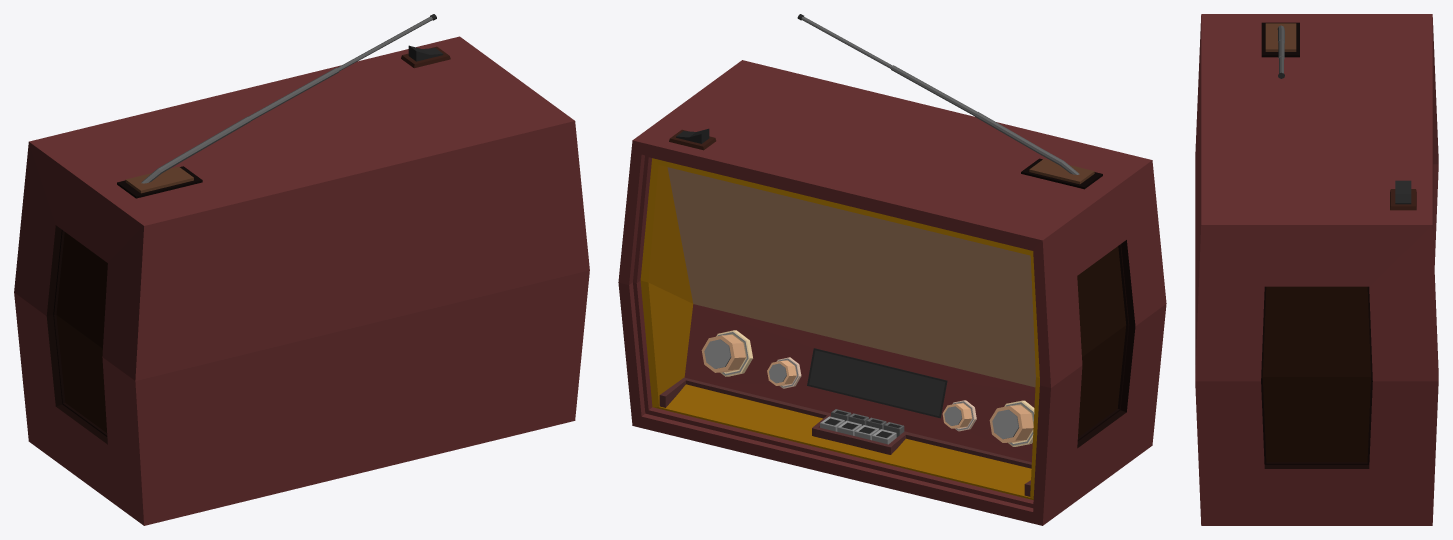
Rendered from radio.glb.
3 renders of one model, left to right at view 1: azimuth 30°, elevation 25°; view 2: azimuth 150°, elevation 25°; view 3: azimuth 270°, elevation 25°, orthographic. The views are drawn at different scales.
Visible parts, largest first — view 1: Cube_0, Plane_4, Cube.010_3; view 2: Cube_0, Cube.001_1, Plane_4, Cube.006_2, Cube.010_3; view 3: Cube_0, Plane_4, Cube.010_3.
Boxes of the visible parts, <box> form: Cube_0: <box>14,36,589,525</box>; Plane_4: <box>117,14,436,198</box>; Cube.010_3: <box>401,45,450,68</box>; Cube_0: <box>618,60,1166,525</box>; Cube.001_1: <box>659,377,1031,496</box>; Plane_4: <box>797,14,1102,189</box>; Cube.006_2: <box>820,409,904,444</box>; Cube.010_3: <box>669,128,716,150</box>; Cube_0: <box>1195,14,1438,525</box>; Plane_4: <box>1261,22,1299,78</box>; Cube.010_3: <box>1390,180,1416,210</box>.
Size of the model in its own units: 0.5511 by 0.4654 by 0.2547.
Materials: 1 (1 with a texture image).
